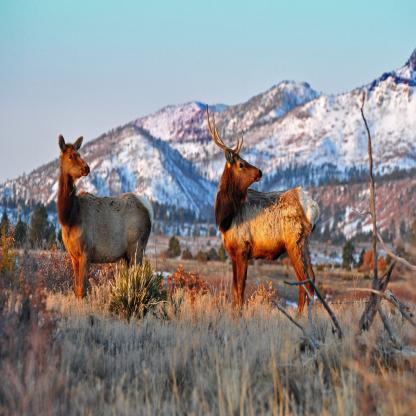Deer: (206, 102, 321, 322), (56, 132, 150, 312)
